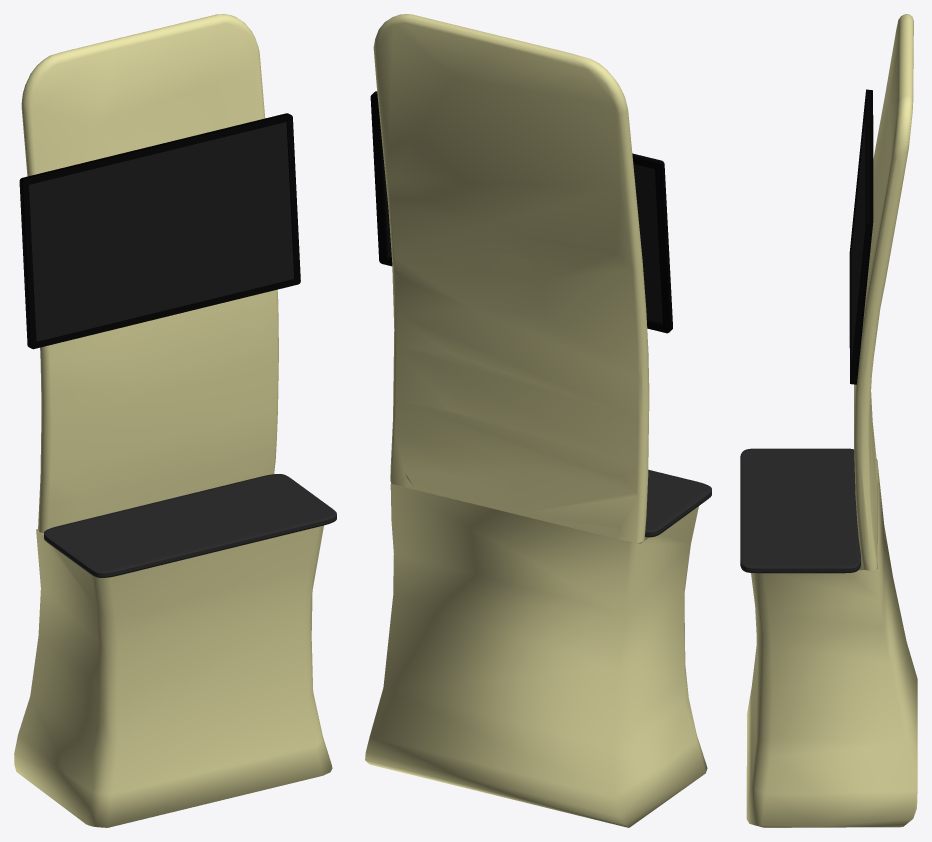
File: Broadcast.glb
3 views of the same model, side by side, from view 1: azimuth 30°, elevation 25°; view 2: azimuth 150°, elevation 25°; view 3: azimuth 270°, elevation 25° (orthographic). The views are drawn at different scales.
Visible parts, largest first — view 1: QuickZip Broadcast; view 2: QuickZip Broadcast; view 3: QuickZip Broadcast.
Part boxes in pixels (box(x1,y1,x2,y2)): QuickZip Broadcast: box(14, 14, 336, 827); QuickZip Broadcast: box(365, 14, 711, 827); QuickZip Broadcast: box(740, 14, 917, 827).
Size of the model in its own units: 0.9146 by 2.3 by 0.5182.
